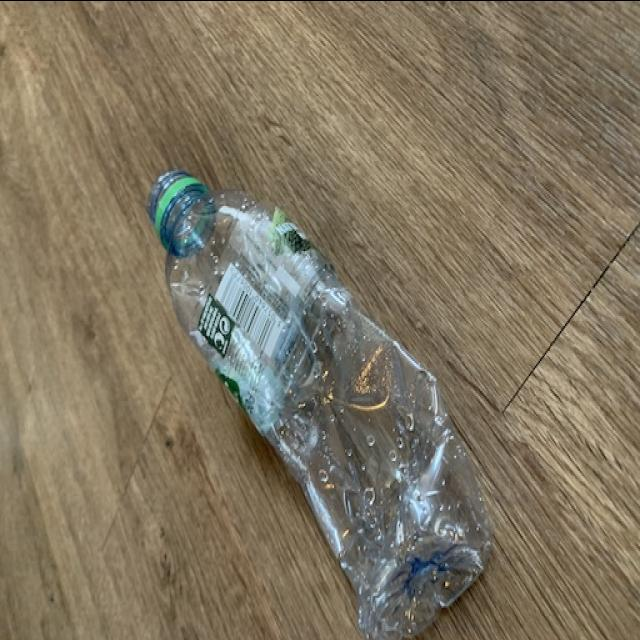PET: (145, 163, 499, 637)
